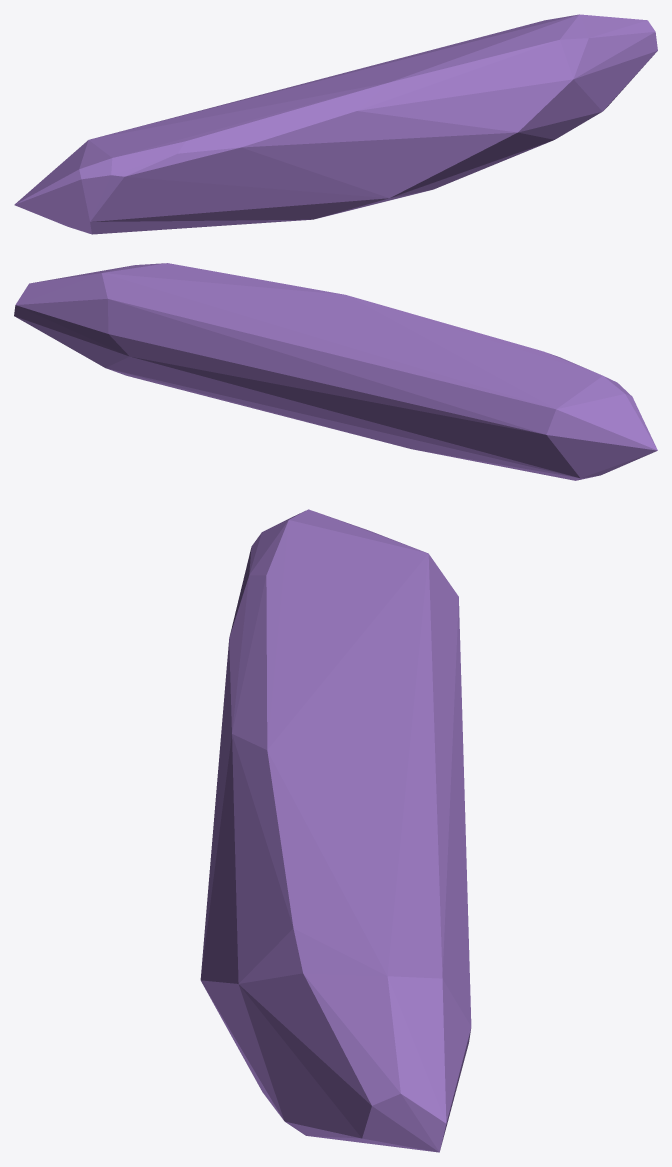
File: food_produce_bitterMelon_a01.glb
3 views of the same model, one above another, from view 1: azimuth 30°, elevation 25°; view 2: azimuth 150°, elevation 25°; view 3: azimuth 270°, elevation 25° (orthographic). The views are drawn at different scales.
Visible parts, largest first — view 1: geometry_0; view 2: geometry_0; view 3: geometry_0.
Boxes of the visible parts, left/top/right/bottom form: geometry_0: left=14, top=14, right=657, bottom=234; geometry_0: left=14, top=263, right=657, bottom=480; geometry_0: left=200, top=509, right=471, bottom=1152.
Bounding box in the file's own units: 0.4716 × 0.0877 × 0.0883.
